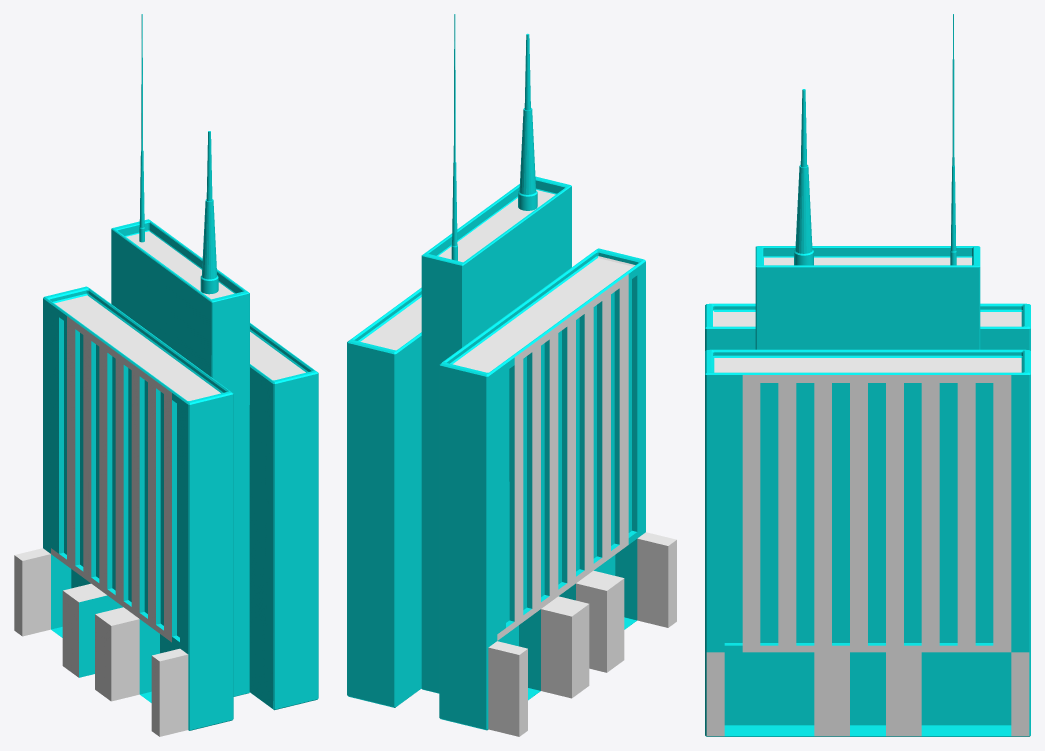
The model's file is Building_23_Blue.glb.
The picture shows the model from 3 angles, left to right: view 1: azimuth 30°, elevation 25°; view 2: azimuth 150°, elevation 25°; view 3: azimuth 270°, elevation 25°; orthographic projection. The views are drawn at different scales.
Parts seen in each view (by area): view 1: pCube10; view 2: pCube10; view 3: pCube10.
Part boxes in pixels (x1=…): pCube10: x1=14, y1=14, x2=318, y2=736; pCube10: x1=347, y1=14, x2=676, y2=736; pCube10: x1=705, y1=14, x2=1030, y2=736.
Size of the model in its own units: 1291 by 4810 by 2064.
